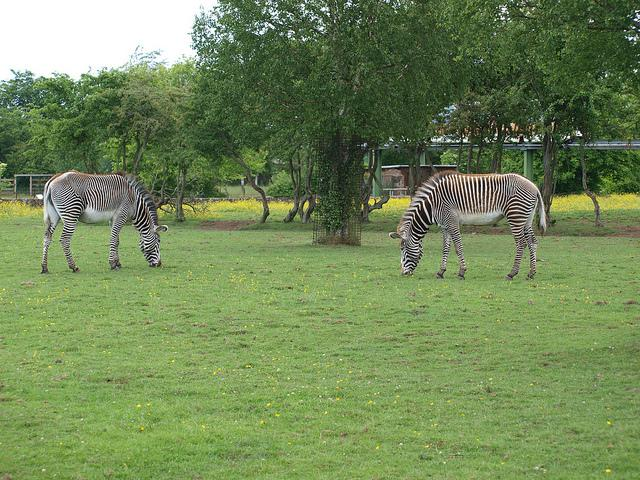Train: (570, 140, 640, 146)
